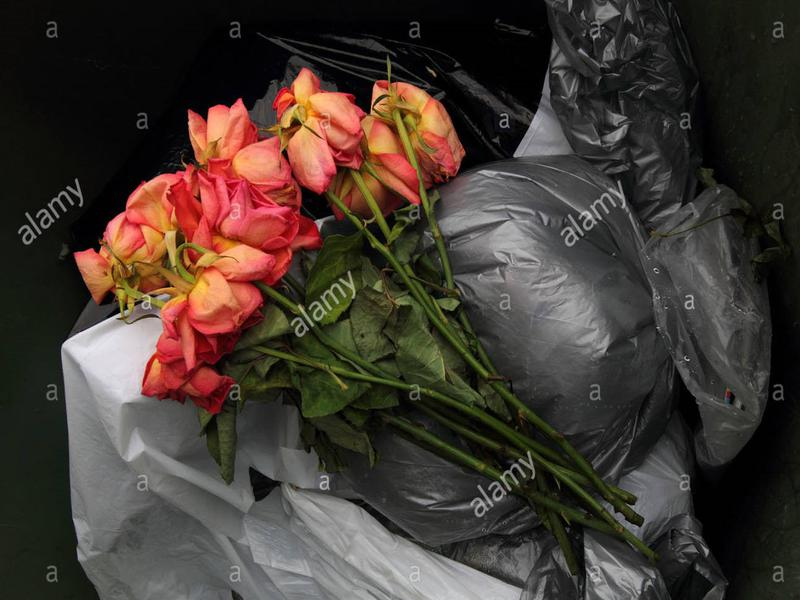flowers: (54, 70, 477, 415)
leaf: (382, 314, 461, 390), (285, 369, 382, 419)
plastic: (534, 2, 800, 475), (438, 154, 675, 481), (69, 398, 317, 600), (239, 487, 529, 600)
